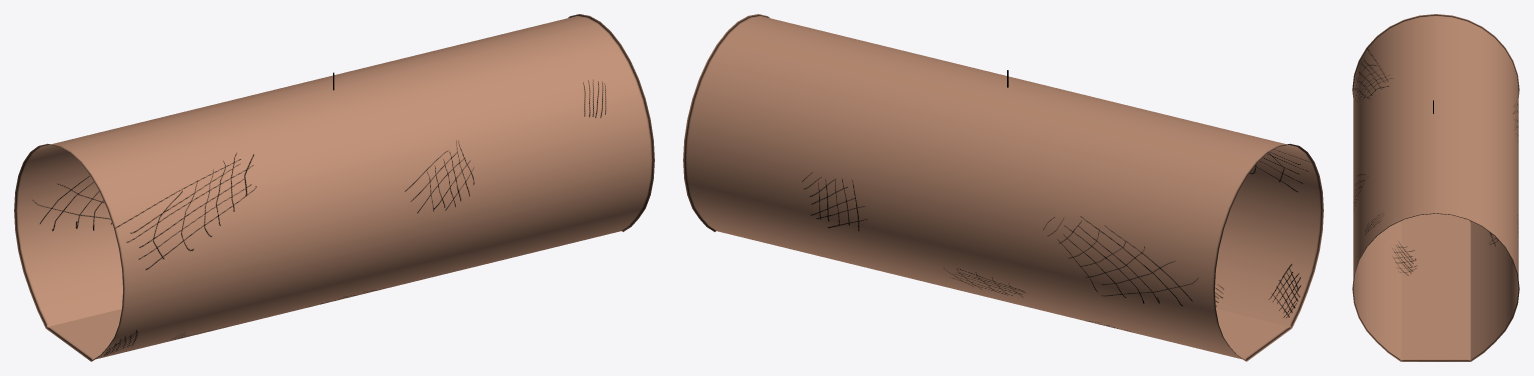
The model's file is MetalPipe_01.fbx.
3 views of the same model, side by side, from view 1: azimuth 30°, elevation 25°; view 2: azimuth 150°, elevation 25°; view 3: azimuth 270°, elevation 25° (orthographic). The views are drawn at different scales.
Visible parts, largest first — view 1: Cylinder; view 2: Cylinder; view 3: Cylinder.
Part boxes in pixels (x1,y1,x2,y2): Cylinder: [14, 14, 654, 361]; Cylinder: [683, 14, 1323, 361]; Cylinder: [1352, 14, 1519, 361].
Bounding box in the file's own units: 825 × 310 × 293.
